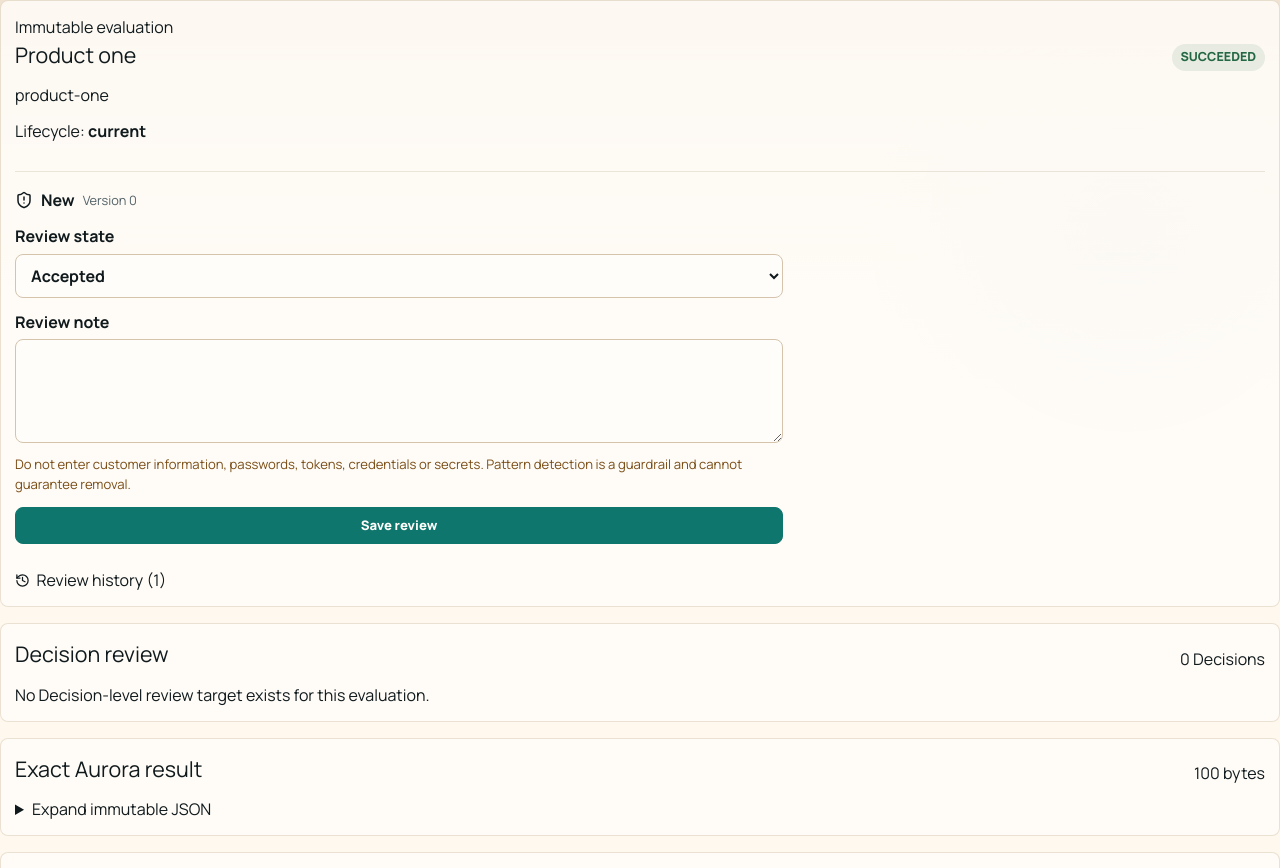
Scenario: Aurora evaluation review UI › shows the note warning, escapes note output, and provides accessible validation
This screenshot has width=1280, height=868.
Expected: the text "Do not enter customer information, passwords, tokens, credentials or secrets" is shown, [15,455,484,473]
Select "Needs Changes" in the dropdown labelled "Review state" at (399, 276), box [15,254,783,298]
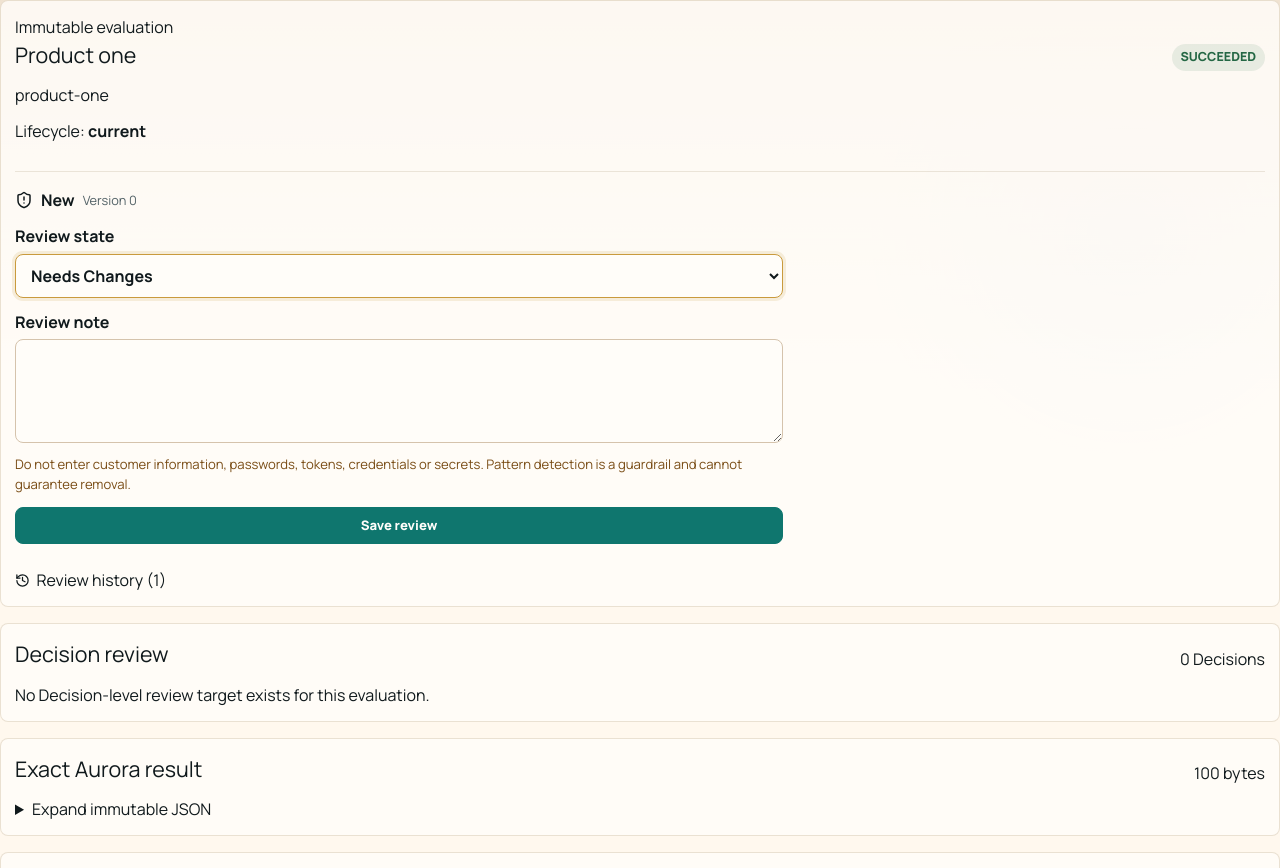
Click the button "Save review" at (399, 526), box [15,507,783,544]
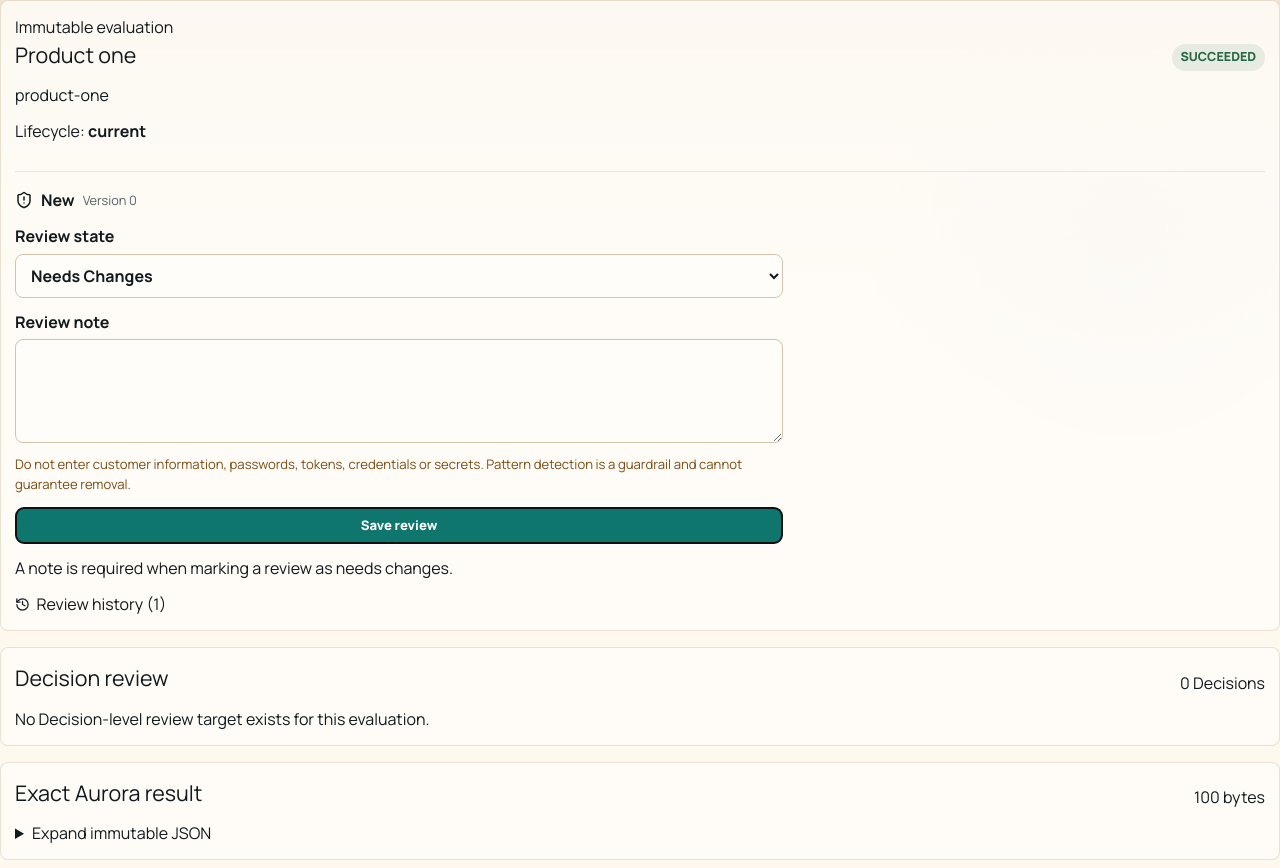
Expected: the message shows "A note is required", [15,557,453,579]
